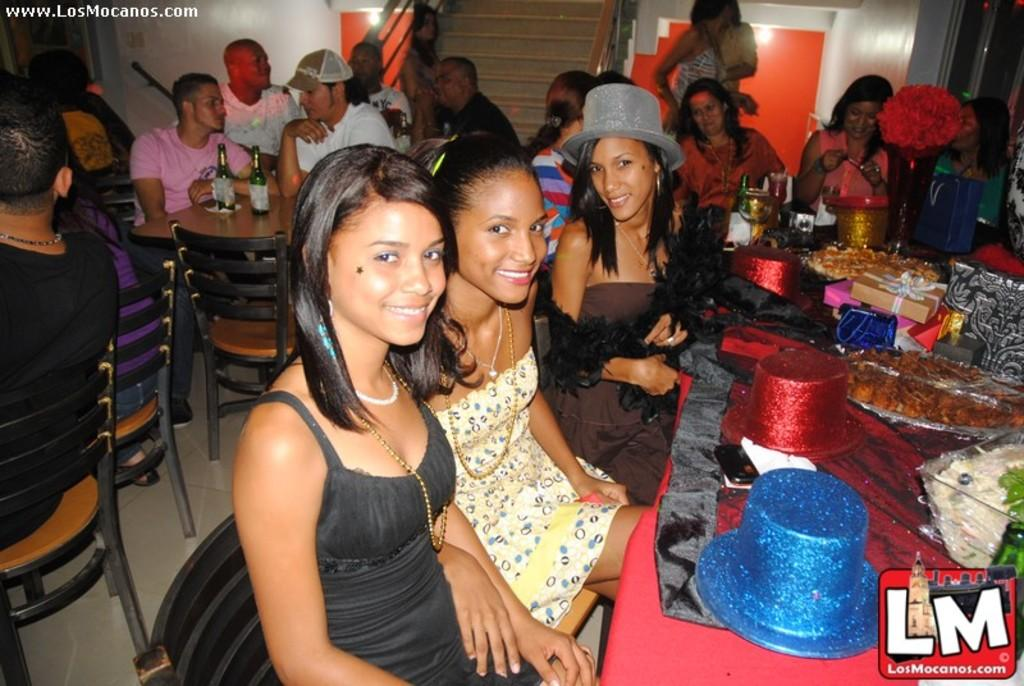Hat: (558, 94, 680, 172), (286, 48, 356, 95)
